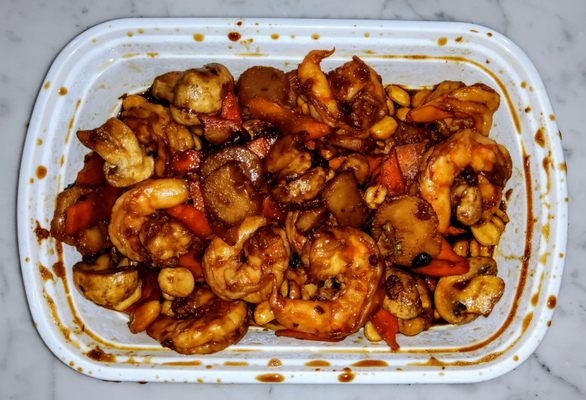sushi: (8, 18, 574, 382)
